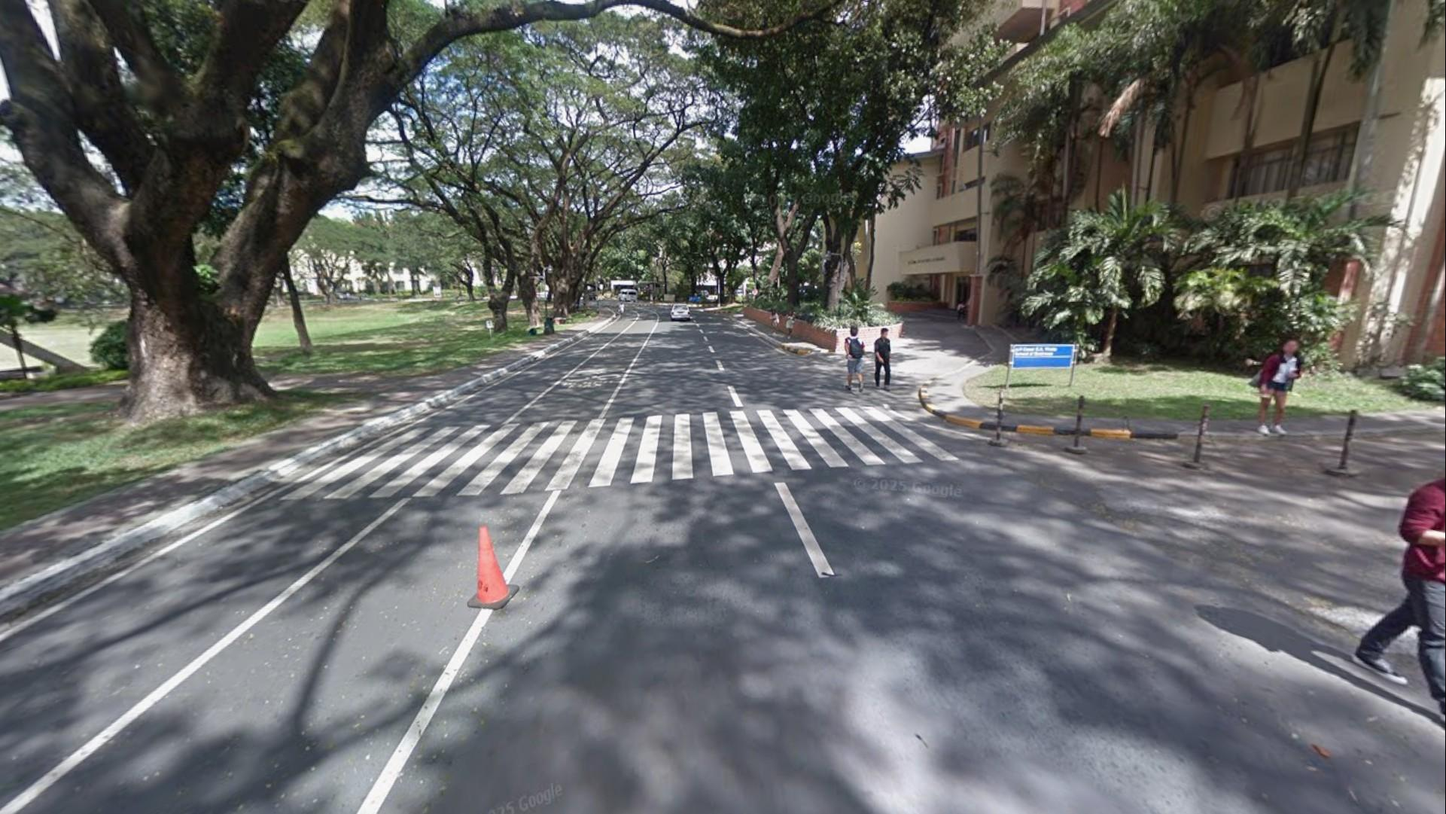pedestrian: (1347, 447, 1446, 737), (1247, 333, 1309, 441), (844, 325, 868, 394), (873, 326, 893, 392), (784, 307, 797, 341), (769, 308, 779, 338), (619, 302, 626, 318)
